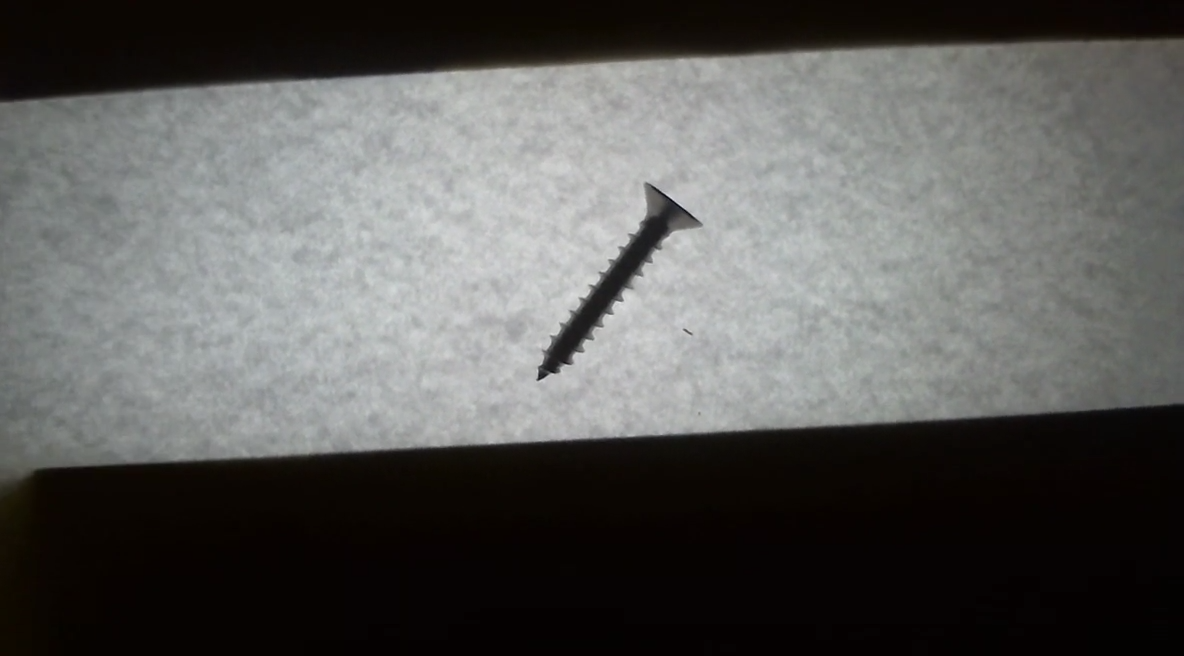S001: (509, 159, 722, 385)
